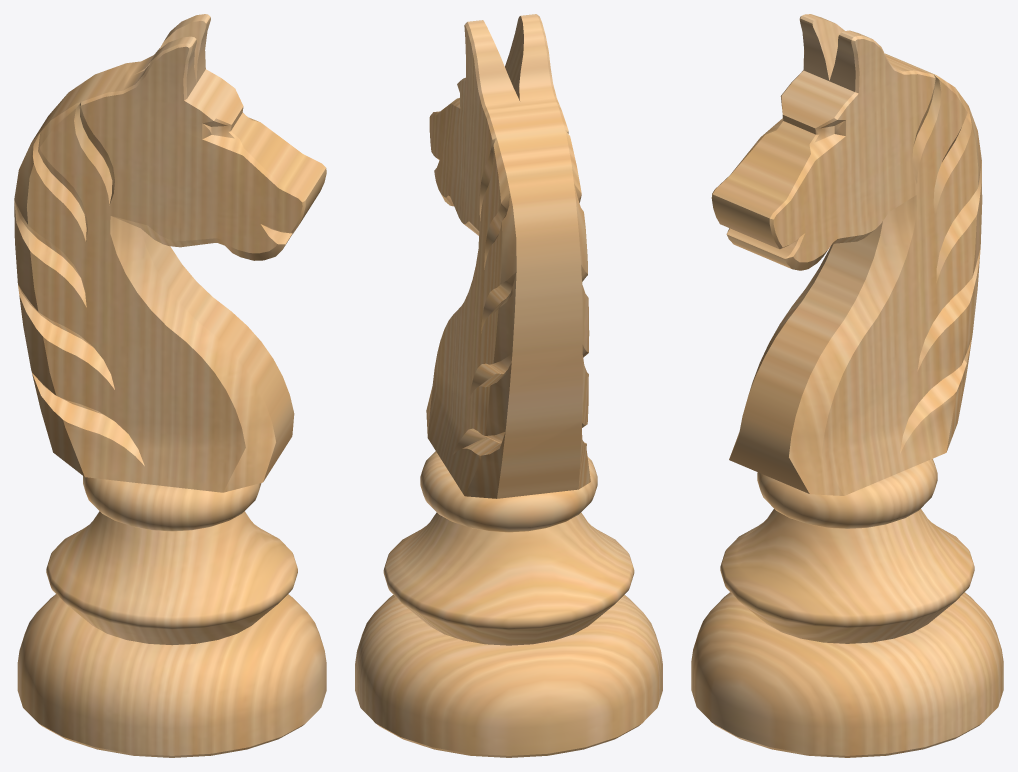
The model's file is white_knight.gltf.
3 views of the same model, side by side, from view 1: azimuth 30°, elevation 25°; view 2: azimuth 150°, elevation 25°; view 3: azimuth 270°, elevation 25° (orthographic).
Visible parts, largest first — view 1: Material2006, Material2011; view 2: Material2011, Material2006; view 3: Material2006, Material2011.
Part boxes in pixels (left/top/right/bottom): Material2006: left=14, top=14, right=326, bottom=492; Material2011: left=17, top=476, right=326, bottom=757; Material2011: left=355, top=451, right=662, bottom=757; Material2006: left=426, top=14, right=590, bottom=498; Material2006: left=711, top=14, right=982, bottom=495; Material2011: left=691, top=459, right=1003, bottom=757.
Size of the model in its own units: 0.1811 by 0.4322 by 0.1811.
Materials: 1 (1 with a texture image).
